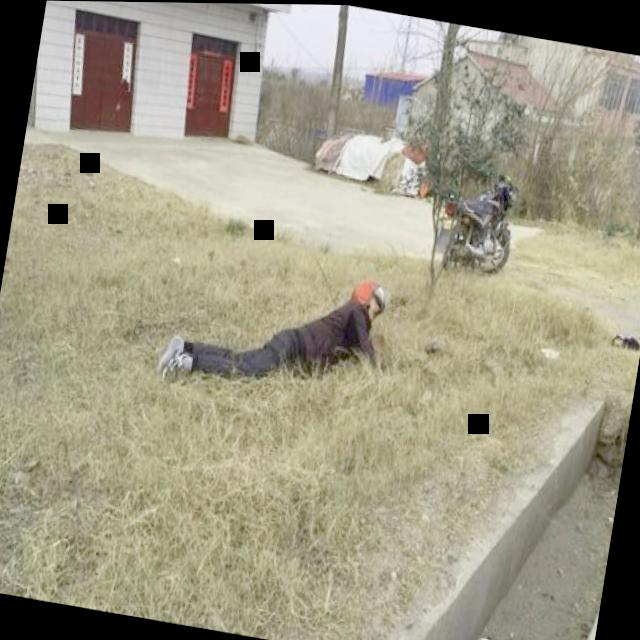Fall-Detected: (150, 224, 412, 423)
